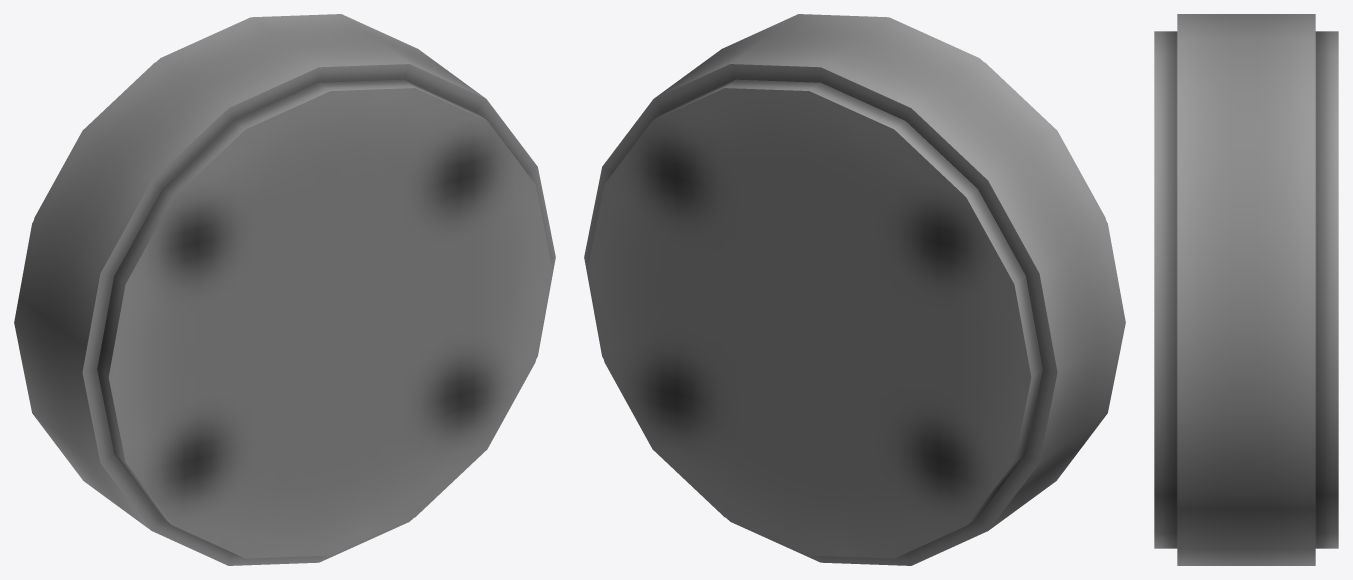
The model's file is Eridani_SolarDorsal_1_Pivot_2.obj.
The picture shows the model from 3 angles, left to right: view 1: azimuth 30°, elevation 25°; view 2: azimuth 150°, elevation 25°; view 3: azimuth 270°, elevation 25°; orthographic projection.
Parts seen in each view (by area): view 1: Eridani_SolarDorsal_1_Pivot_2; view 2: Eridani_SolarDorsal_1_Pivot_2; view 3: Eridani_SolarDorsal_1_Pivot_2.
Boxes of the visible parts, x1,y1,x2,y2 form: Eridani_SolarDorsal_1_Pivot_2: (14,14,555,565); Eridani_SolarDorsal_1_Pivot_2: (584,14,1125,565); Eridani_SolarDorsal_1_Pivot_2: (1154,14,1338,565).
Size of the model in its own units: 0.24 by 0.24 by 0.08.
